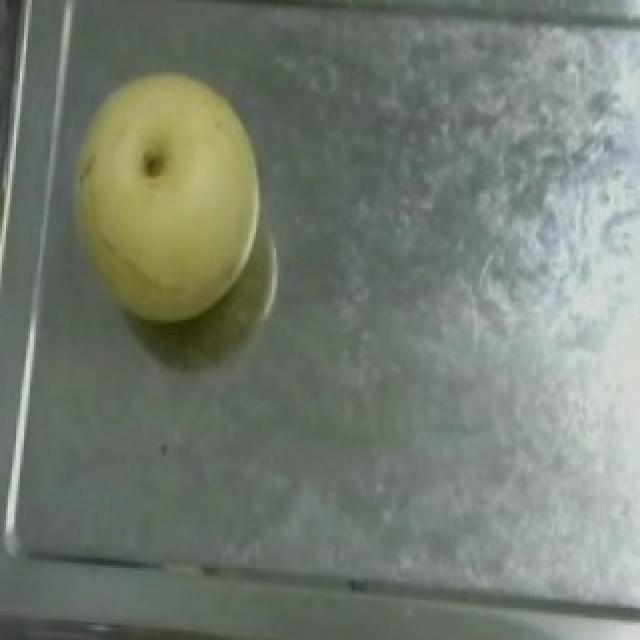Fruit: (34, 52, 276, 337)
